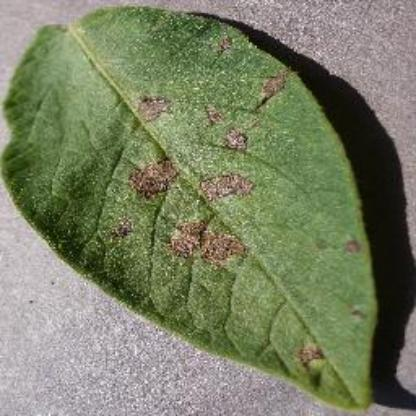Early-Blight: (6, 9, 386, 411)
